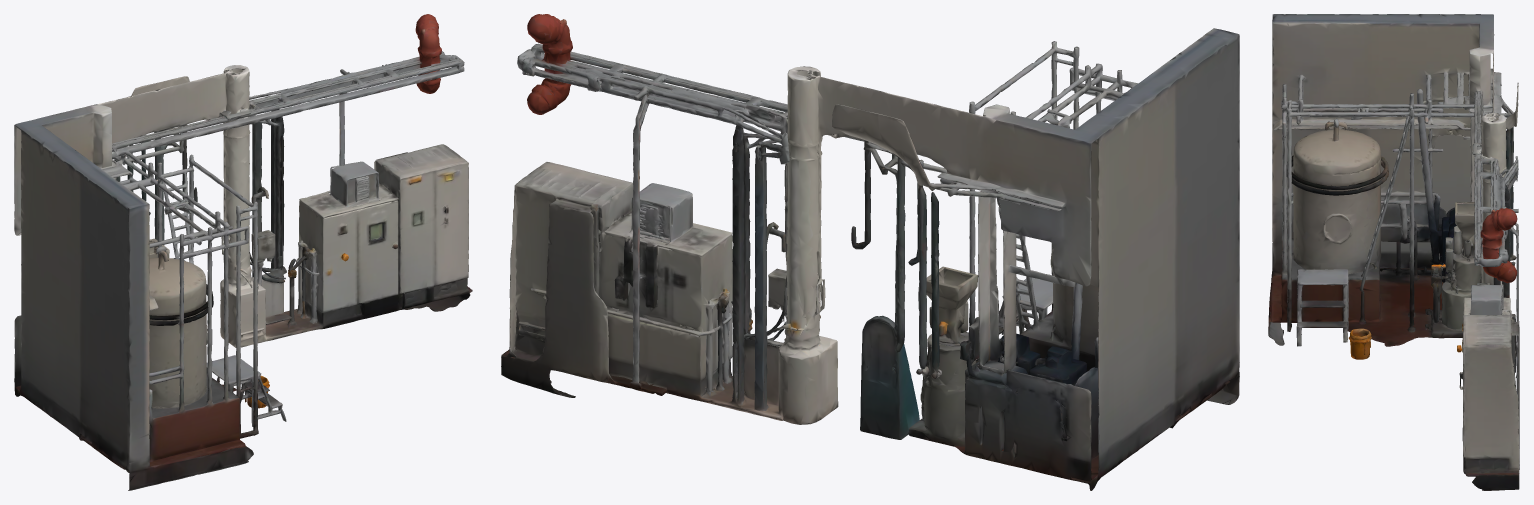
File: beyti-almarai-factory-1.glb
3 views of the same model, side by side, from view 1: azimuth 30°, elevation 25°; view 2: azimuth 150°, elevation 25°; view 3: azimuth 270°, elevation 25° (orthographic). The views are drawn at different scales.
Bounding box in the file's own units: 1 × 0.6259 × 0.5107.
1 material, 1 textured.
